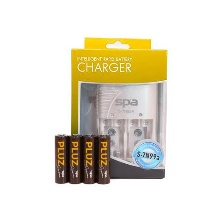battery: (64, 131, 84, 186), (79, 132, 98, 185), (94, 132, 111, 186), (53, 131, 70, 185)
